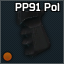PP-91 ZMZ polymer pistol grip: (0, 0, 64, 64)
